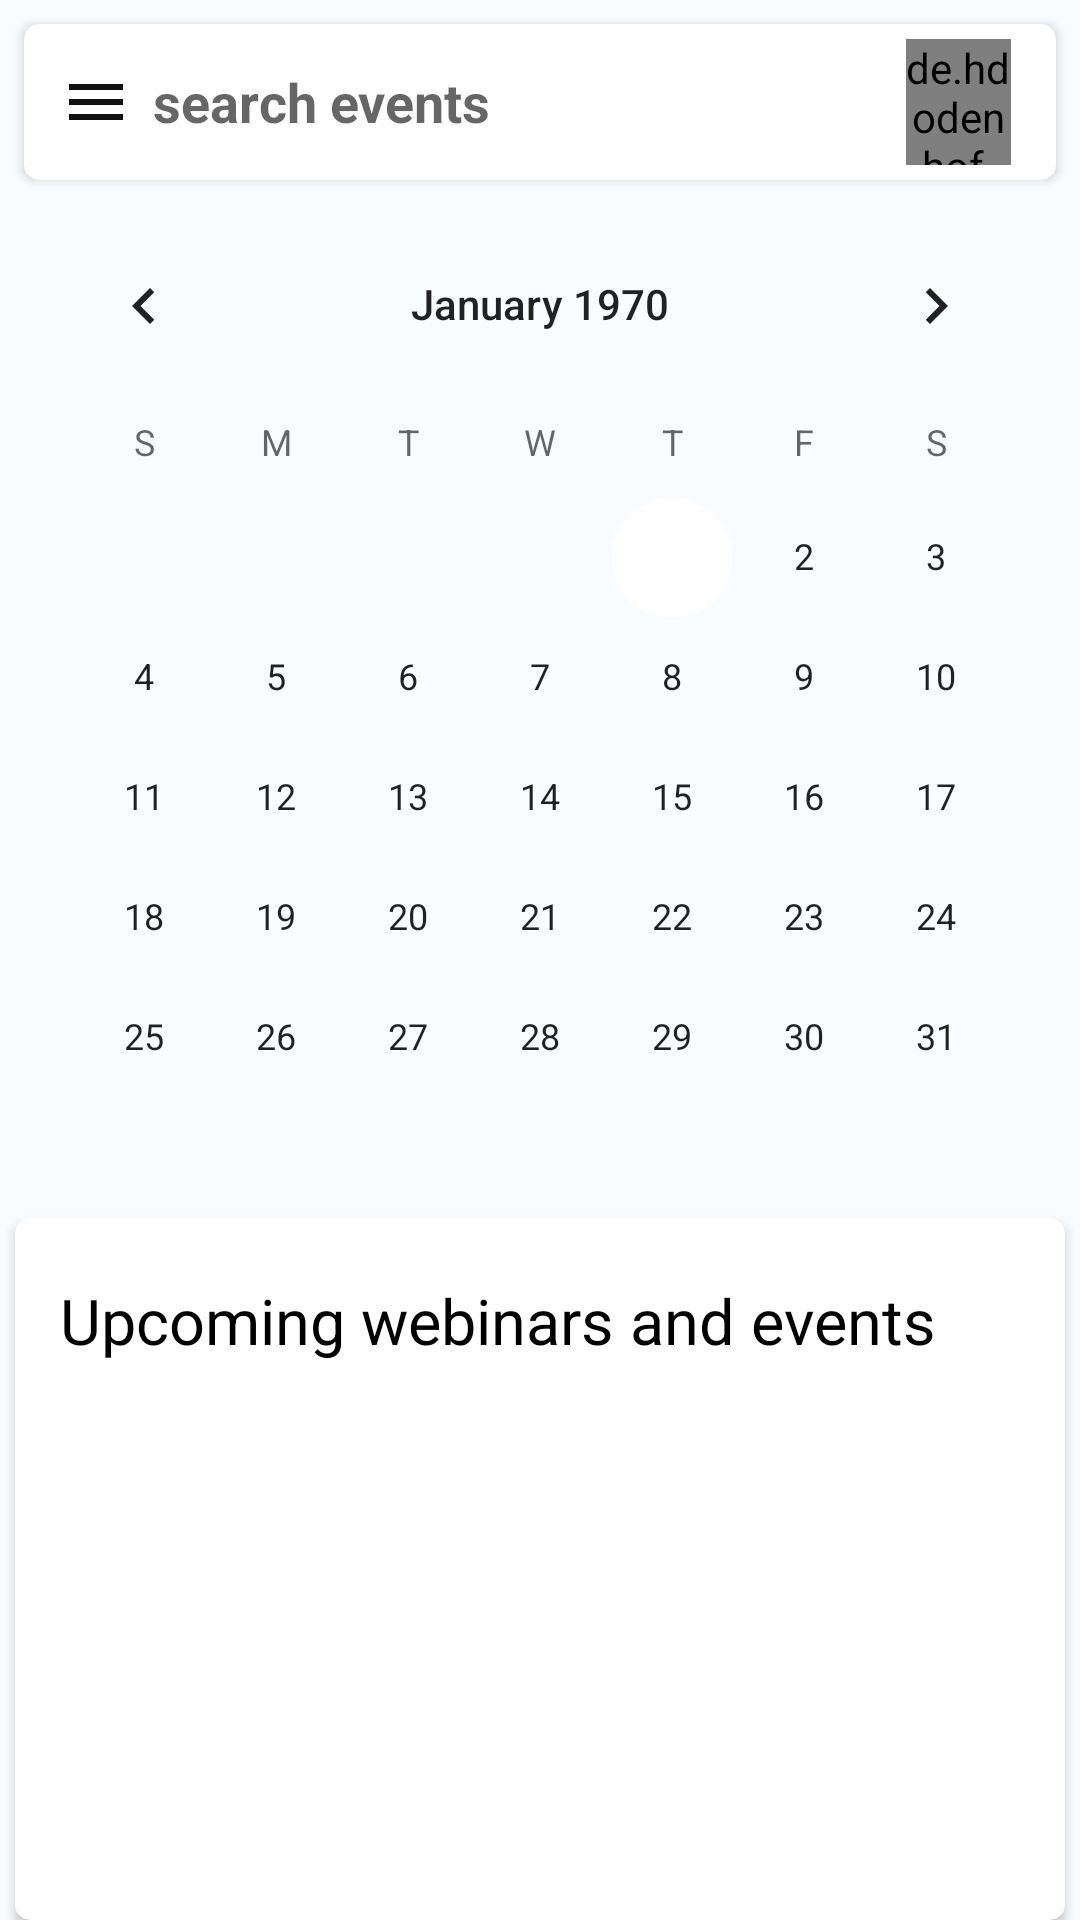

Named icons in this screenshot (1080*1920) and their bounding boxes, (x1, y1, x2, y2):
menu: (69, 84, 123, 120)
